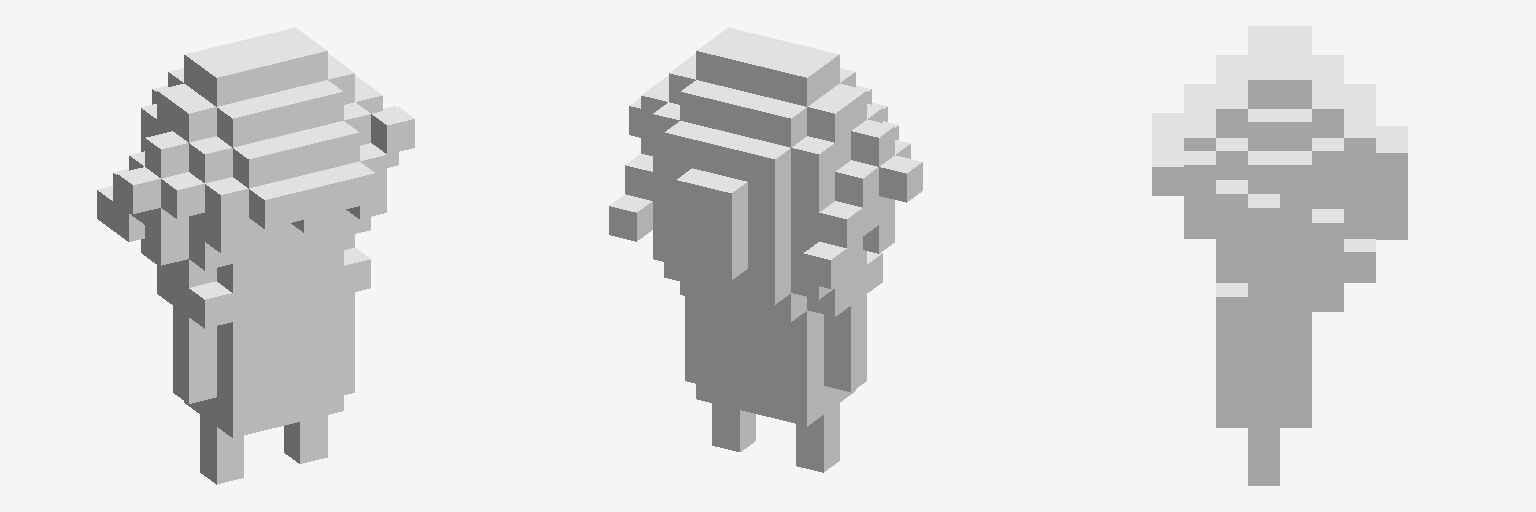
Rendered from callu.obj.
The picture shows the model from 3 angles: view 1: azimuth 30°, elevation 25°; view 2: azimuth 150°, elevation 25°; view 3: azimuth 270°, elevation 25°; orthographic projection.
Parts seen in each view (by area): view 1: object 1; view 2: object 1; view 3: object 1.
Part boxes in pixels (x1,y1,x2,y2): object 1: (97, 27, 414, 484); object 1: (609, 27, 922, 472); object 1: (1152, 26, 1407, 485).
Size of the model in its own units: 1 by 1.4 by 0.8.